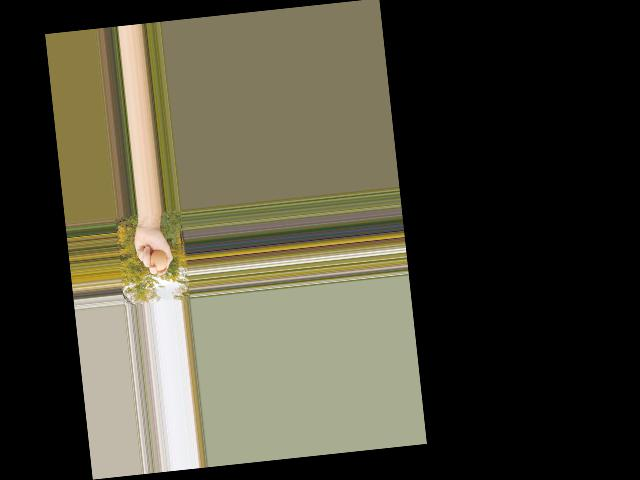egg: (148, 249, 167, 271)
